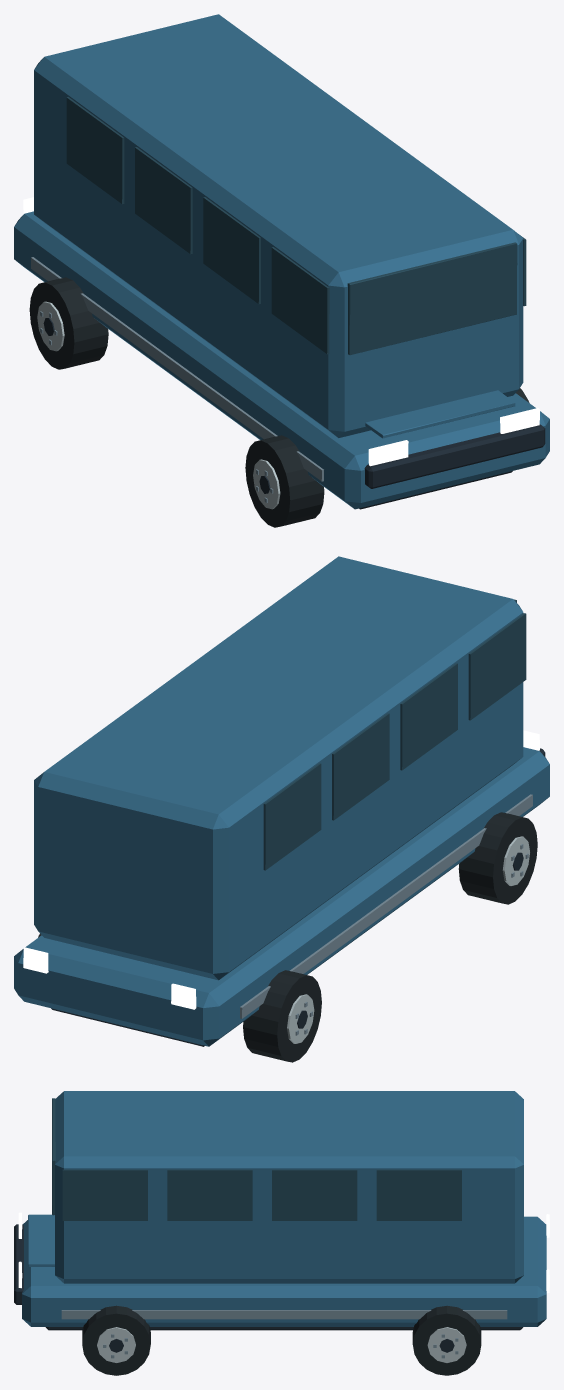
The model's file is road-van.lod1.glb.
The picture shows the model from 3 angles, top to bottom: view 1: azimuth 30°, elevation 25°; view 2: azimuth 150°, elevation 25°; view 3: azimuth 270°, elevation 25°; orthographic projection. The views are drawn at different scales.
Visible parts, largest first — view 1: road-van__body, road-van__wheel_steer_1_l, road-van__wheel_steer_0_l; view 2: road-van__body, road-van__wheel_steer_0_l, road-van__wheel_steer_1_l; view 3: road-van__body, road-van__wheel_steer_1_r, road-van__wheel_steer_0_r.
Boxes of the visible parts, x1,y1,x2,y2 form: road-van__body: [14, 14, 549, 509]; road-van__wheel_steer_1_l: [29, 277, 108, 369]; road-van__wheel_steer_0_l: [245, 435, 324, 527]; road-van__body: [14, 556, 549, 1046]; road-van__wheel_steer_0_l: [458, 812, 537, 904]; road-van__wheel_steer_1_l: [243, 970, 321, 1062]; road-van__body: [14, 1091, 549, 1330]; road-van__wheel_steer_1_r: [412, 1305, 481, 1375]; road-van__wheel_steer_0_r: [82, 1305, 150, 1375].
Size of the model in its own units: 2.25 by 2.25 by 5.31.
